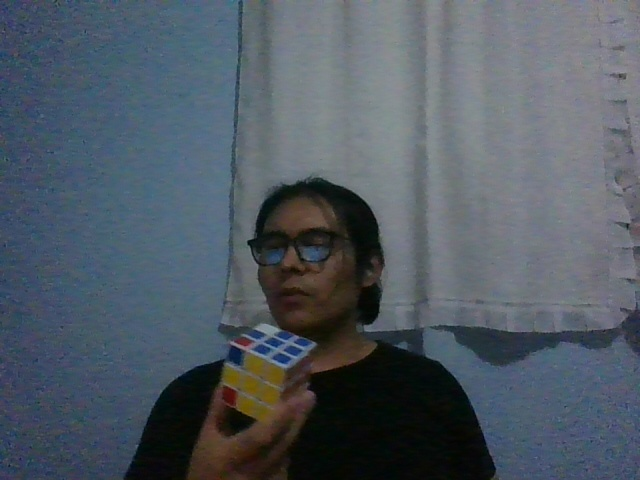rubik: (219, 322, 317, 422)
